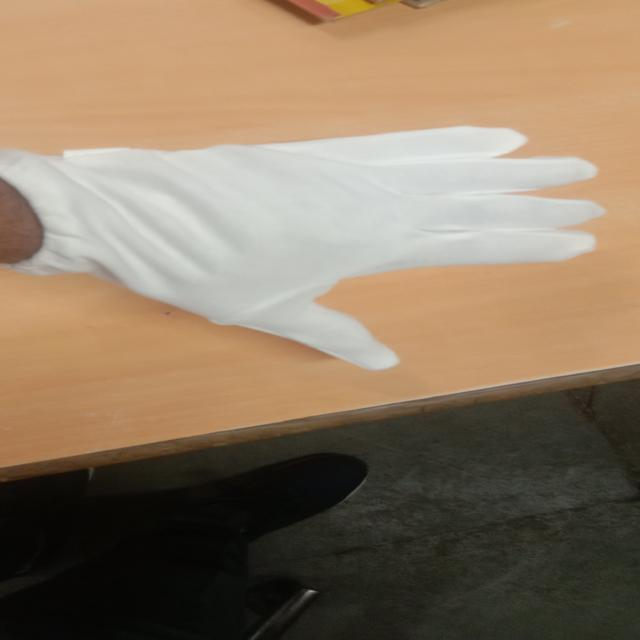glove_hand: (0, 118, 606, 378)
